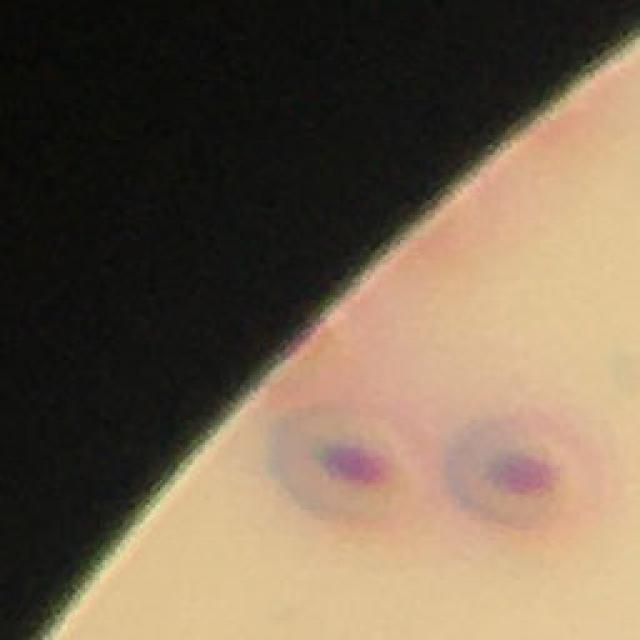RBC: (264, 400, 429, 524), (444, 414, 593, 537)
